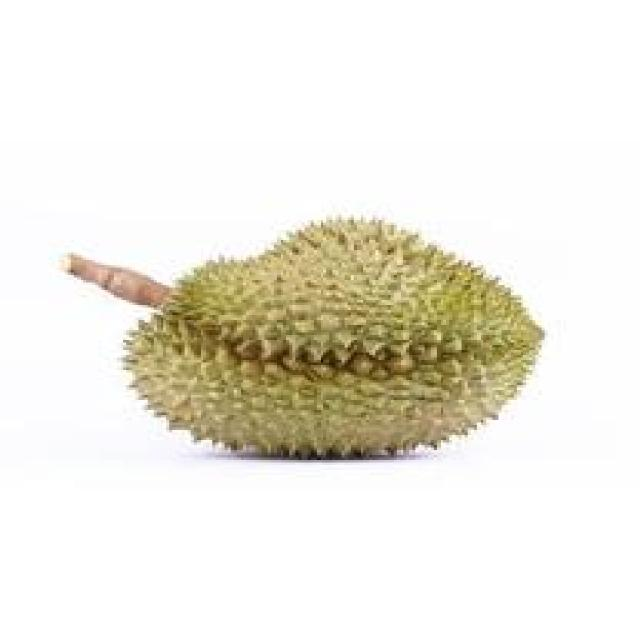non_orange: (123, 190, 560, 480)
